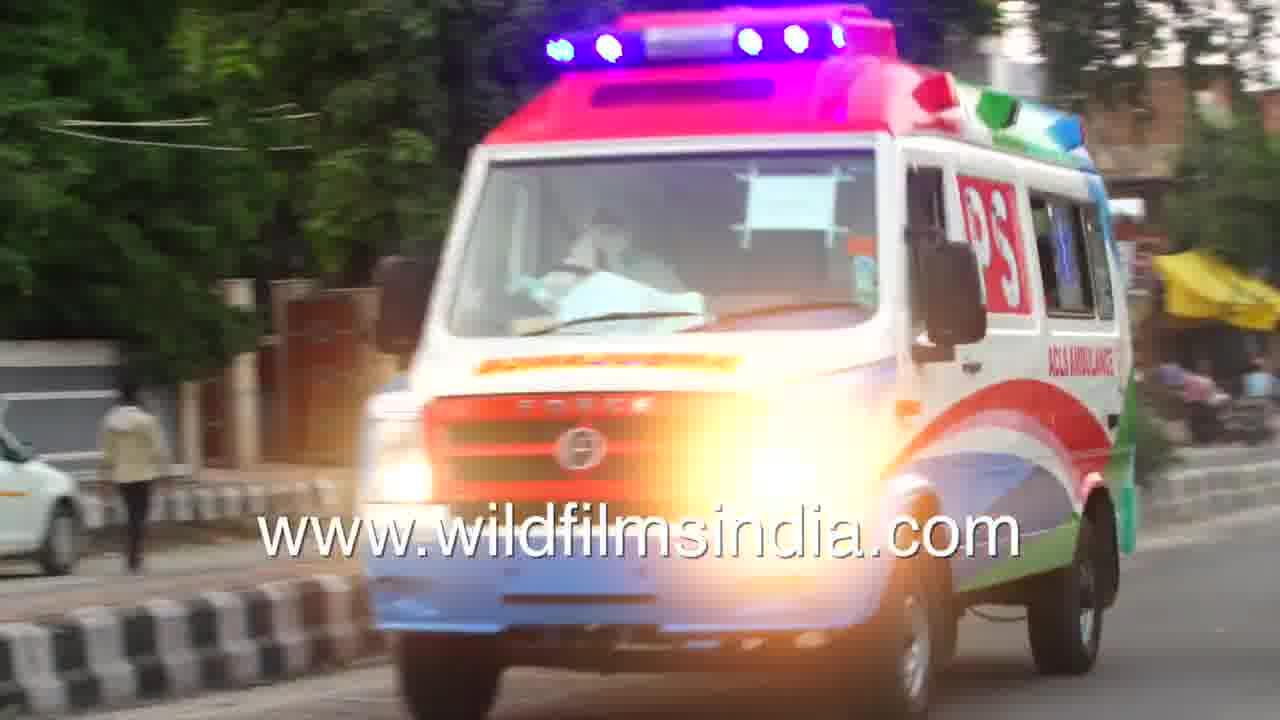AMBULANCE: (349, 7, 1248, 700)
